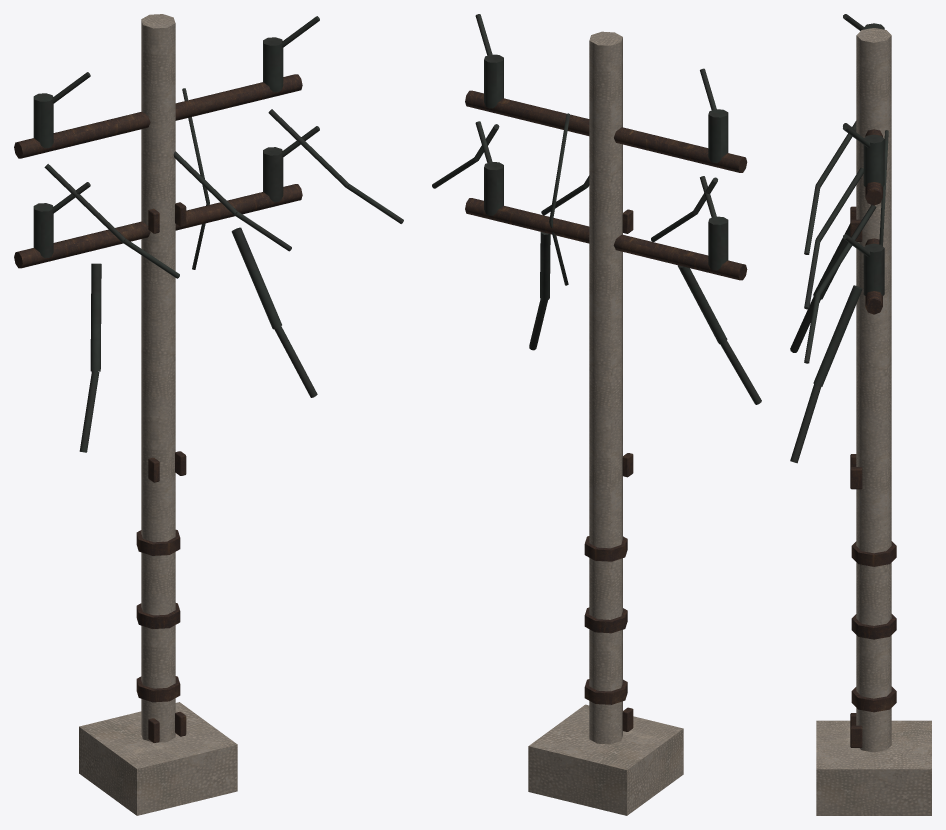
File: f3_native_utilityPole.glb
3 views of the same model, side by side, from view 1: azimuth 30°, elevation 25°; view 2: azimuth 150°, elevation 25°; view 3: azimuth 270°, elevation 25° (orthographic). The views are drawn at different scales.
Parts seen in each view (by area): view 1: f3_weathered_concrete_surface, f3_deep_crack_surface, f3_oxidized_iron_surface; view 2: f3_weathered_concrete_surface, f3_oxidized_iron_surface, f3_deep_crack_surface; view 3: f3_weathered_concrete_surface, f3_deep_crack_surface, f3_oxidized_iron_surface.
Boxes of the visible parts, x1=… form: f3_weathered_concrete_surface: x1=79, y1=14, x2=237, y2=815; f3_deep_crack_surface: x1=33, y1=16, x2=403, y2=452; f3_oxidized_iron_surface: x1=14, y1=74, x2=302, y2=742; f3_weathered_concrete_surface: x1=528, y1=31, x2=683, y2=815; f3_oxidized_iron_surface: x1=465, y1=90, x2=747, y2=731; f3_deep_crack_surface: x1=432, y1=14, x2=761, y2=404; f3_weathered_concrete_surface: x1=816, y1=28, x2=931, y2=815; f3_deep_crack_surface: x1=790, y1=14, x2=888, y2=463; f3_oxidized_iron_surface: x1=850, y1=129, x2=896, y2=747.
Bounding box in the file's own units: 2.51 × 5.2 × 0.8833.
Materials: 3 (3 with a texture image).
